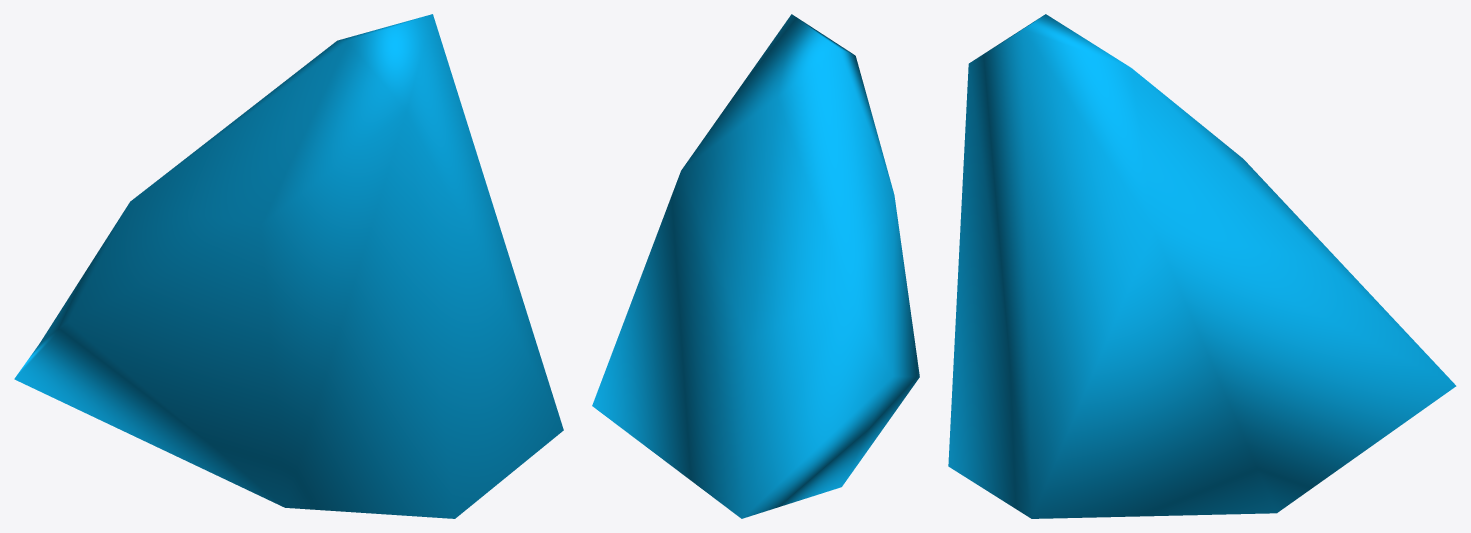
File: Crystal01.fbx
3 renders of one model, left to right at view 1: azimuth 30°, elevation 25°; view 2: azimuth 150°, elevation 25°; view 3: azimuth 270°, elevation 25°, orthographic. The views are drawn at different scales.
Parts seen in each view (by area): view 1: PolySphere; view 2: PolySphere; view 3: PolySphere.
Part boxes in pixels (box(x1,y1,x2,y2)): PolySphere: box(14, 14, 563, 518); PolySphere: box(592, 14, 919, 518); PolySphere: box(948, 14, 1456, 518).
Bounding box in the file's own units: 1.28 × 1.5 × 1.56.
